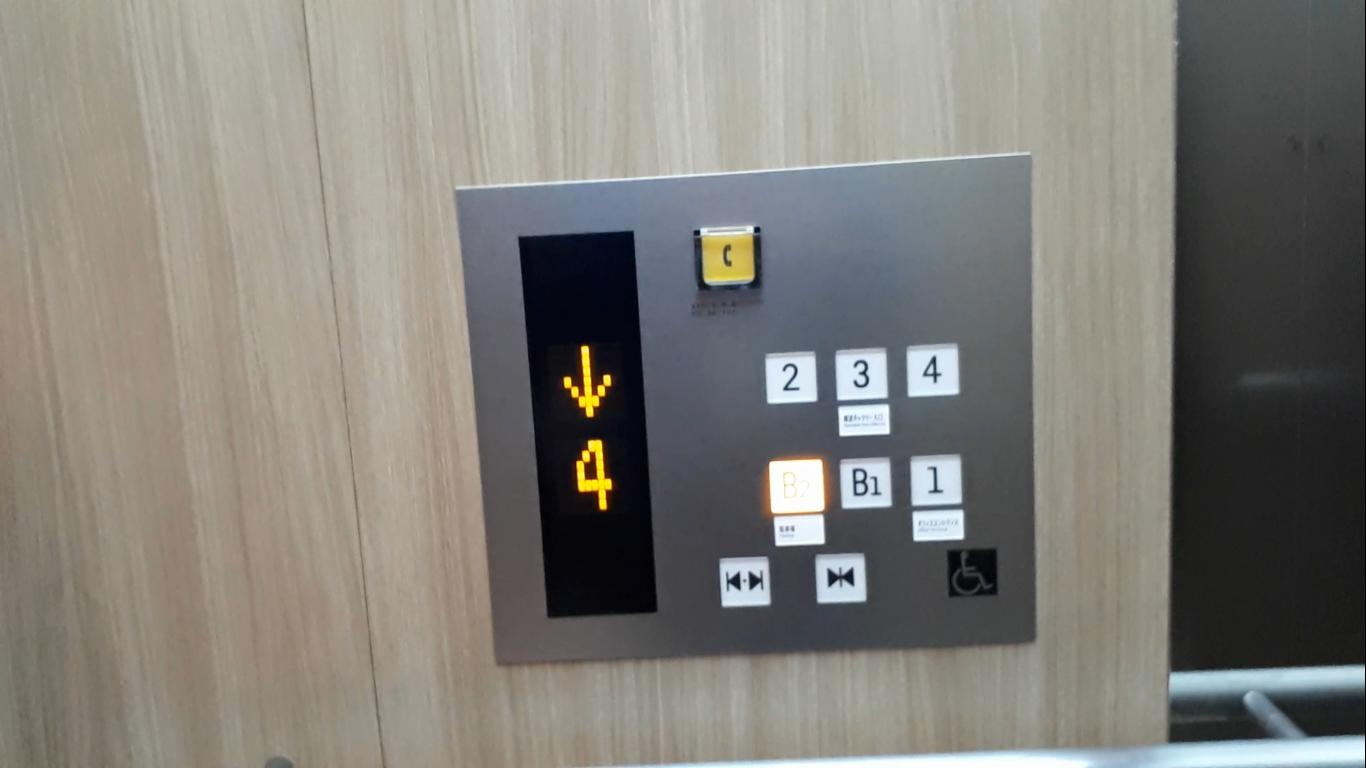1: (907, 451, 963, 507)
2: (763, 349, 818, 405)
3: (832, 345, 889, 403)
4: (902, 340, 961, 399)
B1: (835, 454, 892, 510)
B2: (766, 456, 824, 515)
CH: (944, 545, 1000, 599)
call: (692, 220, 763, 292)
close: (813, 550, 867, 605)
led: (509, 225, 663, 619)
open: (717, 552, 772, 609)
